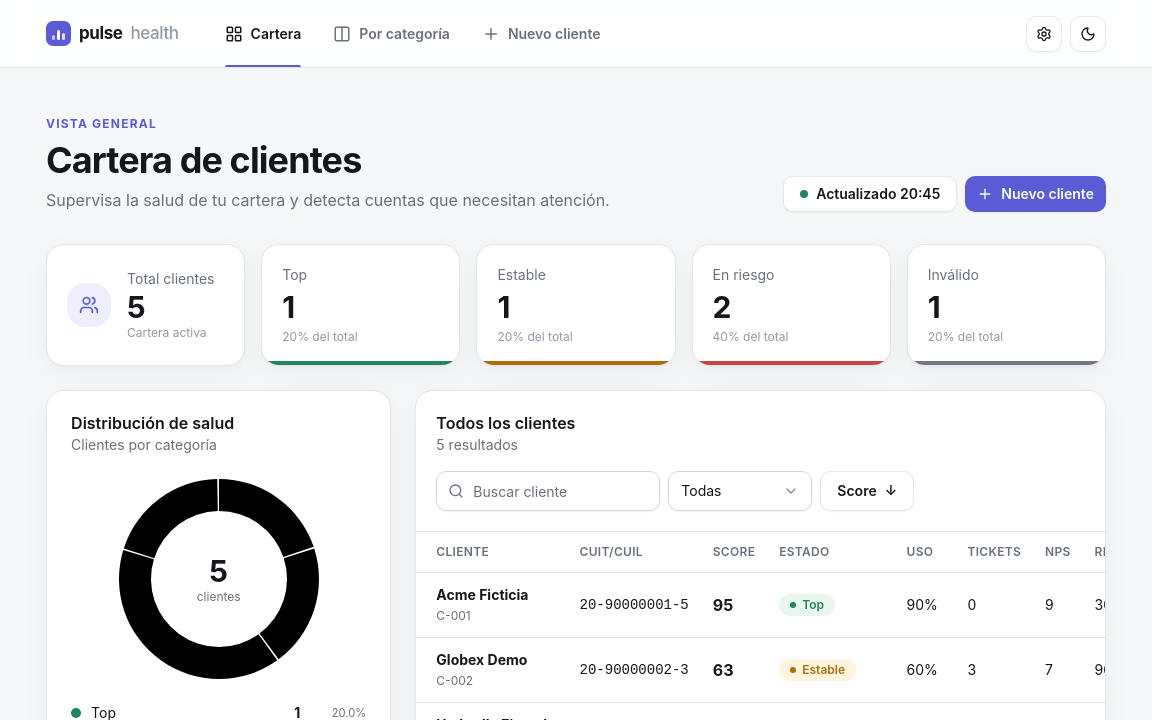
Test case: Detalle de cliente (US3) › Escape cierra el panel y conserva la búsqueda
The image size is (1152, 720).
Expected: the heading "Cartera de clientes" is shown, [46, 138, 361, 182]
Type "acme" into the field with placeholder "Buscar cliente".
click(548, 491); type("acme")  # box [436, 471, 660, 511]
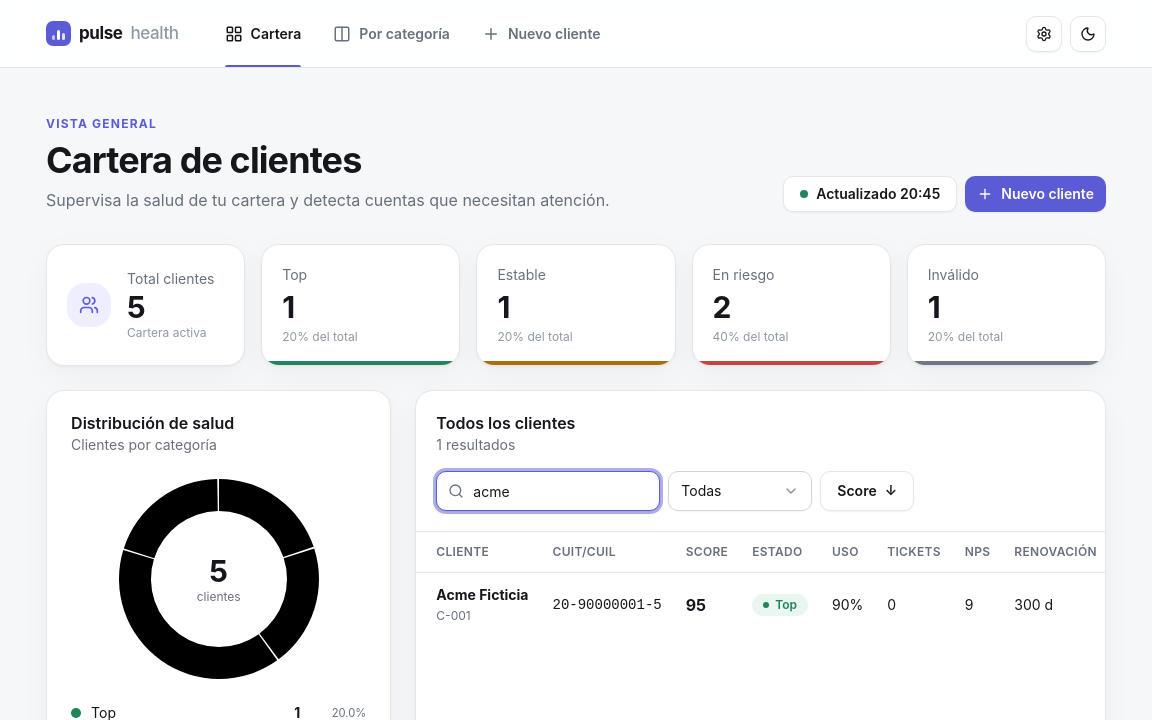
Click the text "Acme Ficticia".
click(482, 594)  # box [436, 584, 528, 604]
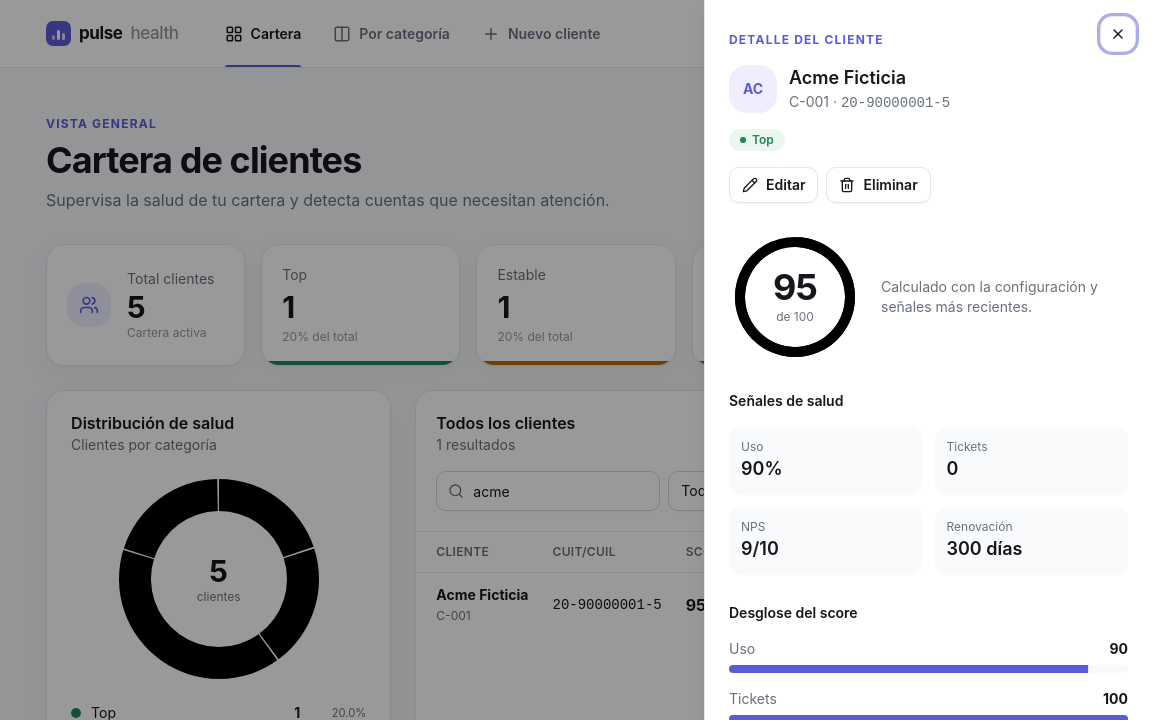
Result: the dialog is shown at [704, 0, 1151, 719]
Press Escape
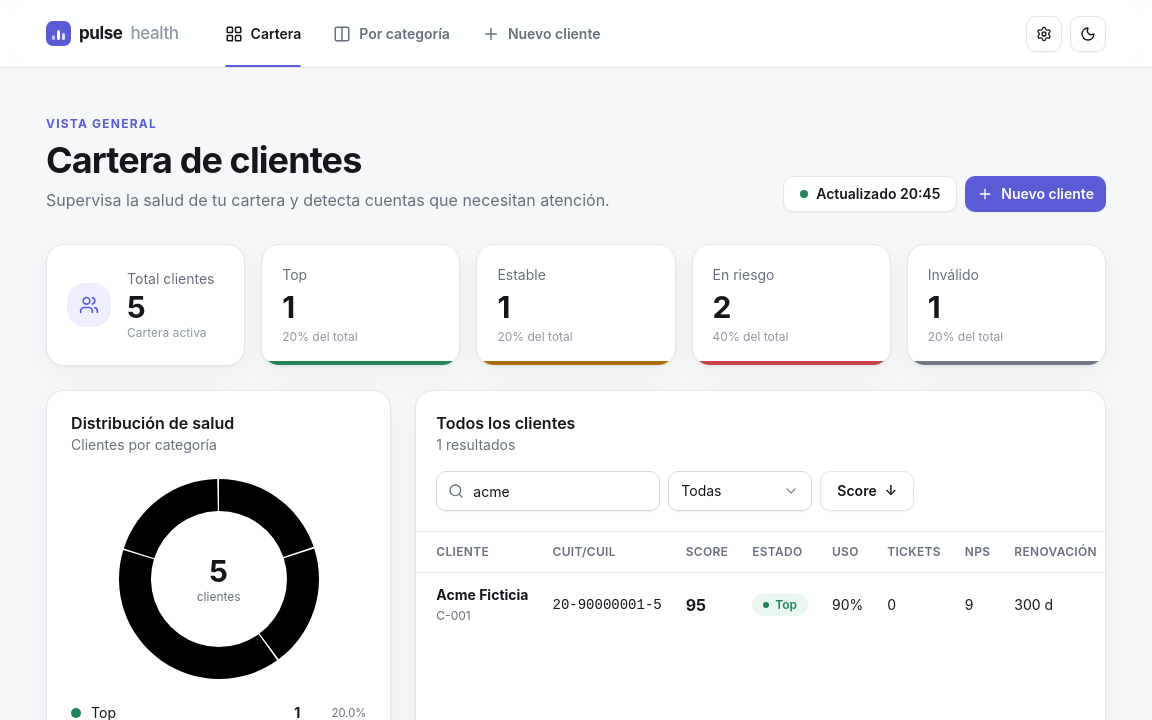
Result: the dialog is gone
